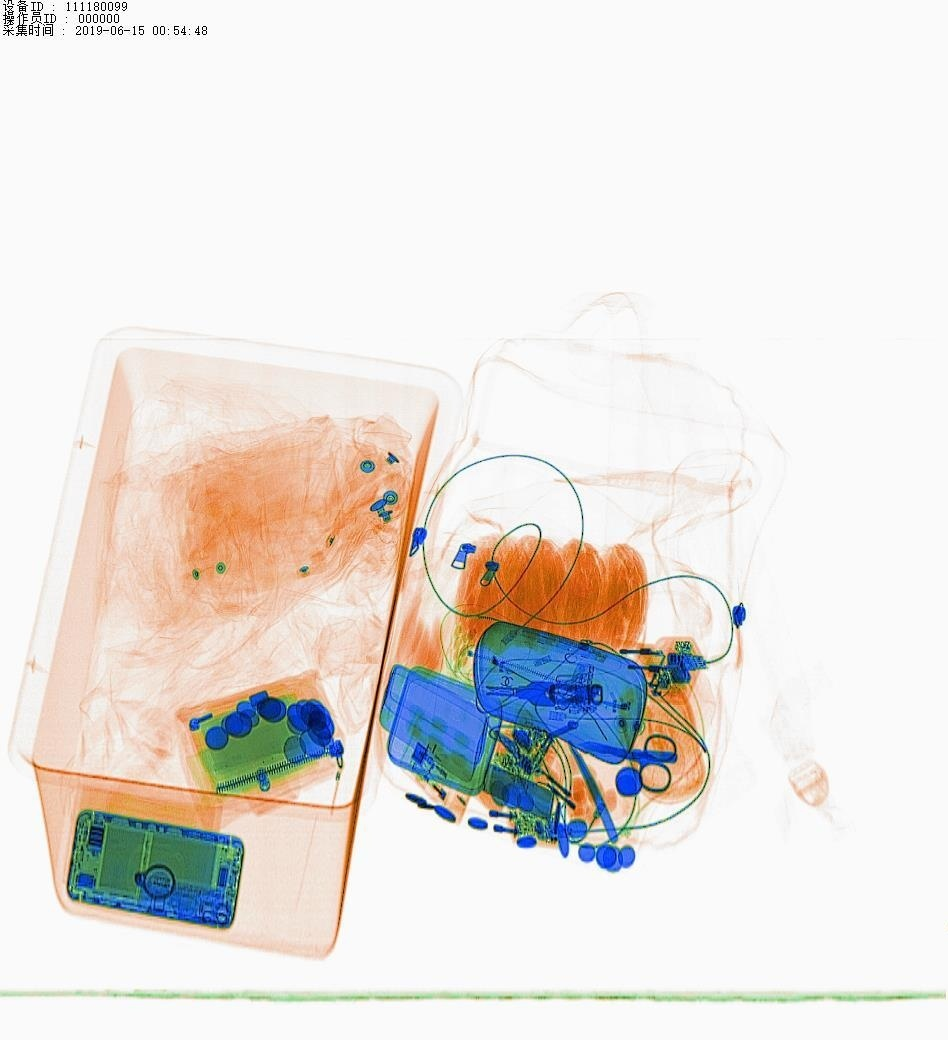NonmetallicFire: (401, 726, 493, 837)
